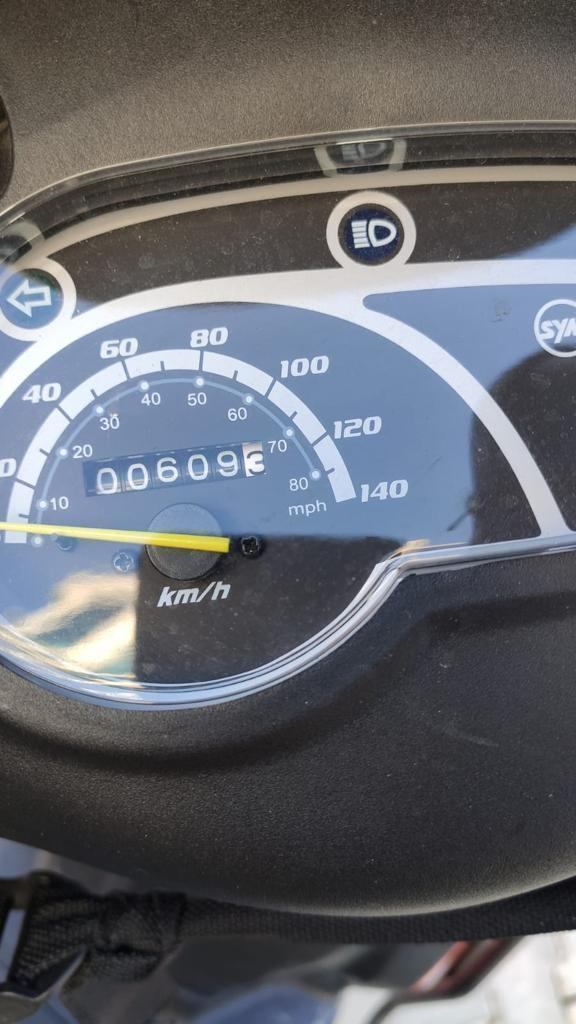0: (186, 453, 208, 481), (127, 462, 149, 490), (96, 467, 117, 494), (82, 443, 92, 458)
3: (246, 449, 266, 476)
6: (156, 456, 178, 483)
9: (216, 449, 238, 477)
odometer: (79, 438, 268, 498)
